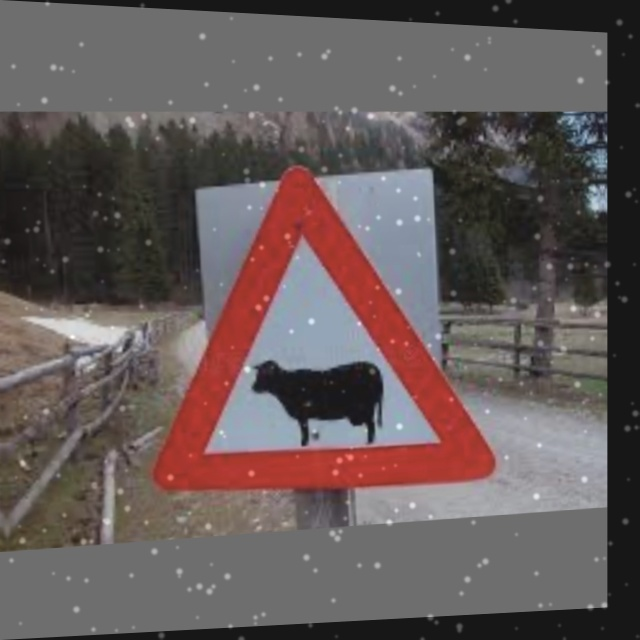Cattle: (147, 170, 484, 505)
